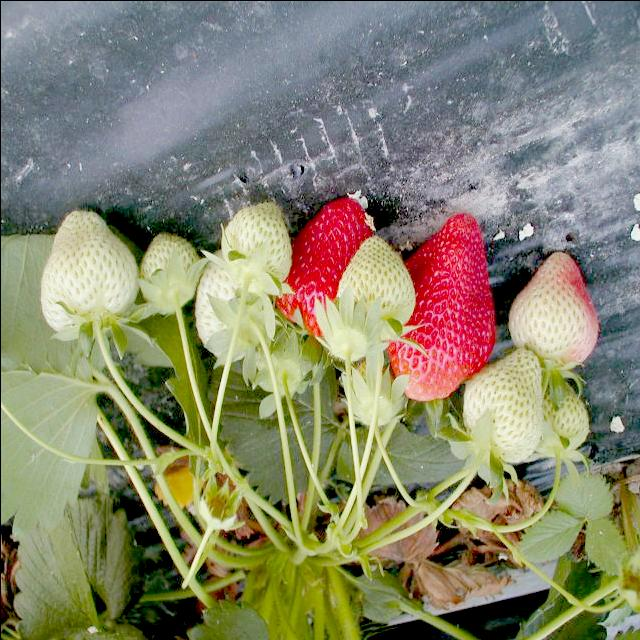ripe: (382, 209, 504, 408), (282, 192, 377, 346)
unripe: (32, 202, 142, 348), (510, 246, 602, 376), (460, 346, 547, 476), (190, 248, 278, 374), (331, 230, 421, 336), (215, 200, 296, 292), (132, 223, 202, 326), (528, 376, 599, 466)
